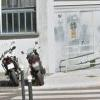Motorcycle: (4, 44, 45, 90)
